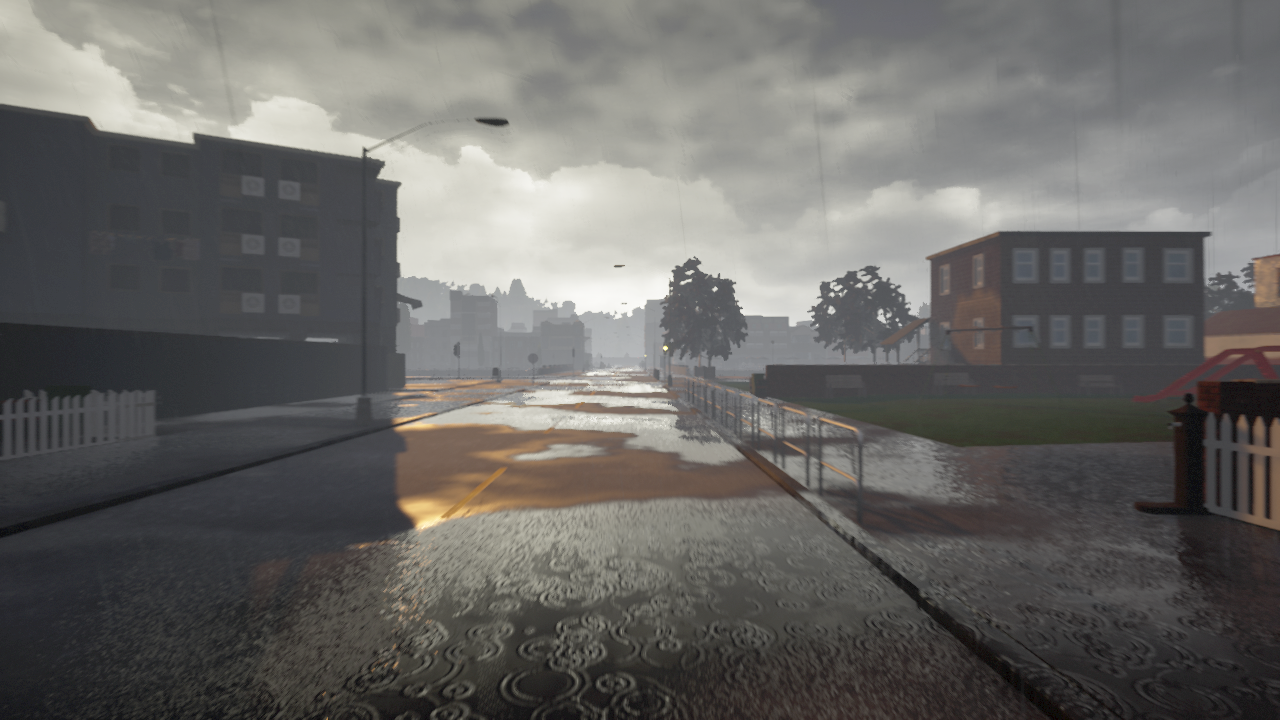yellow: (662, 342, 668, 356)
